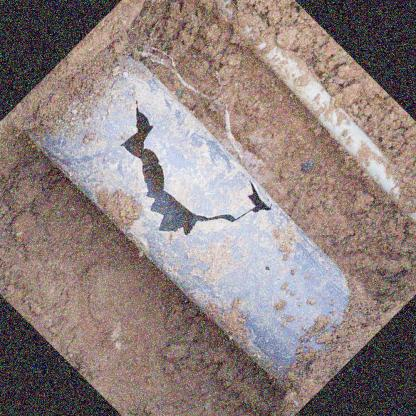burst: (125, 109, 280, 257)
